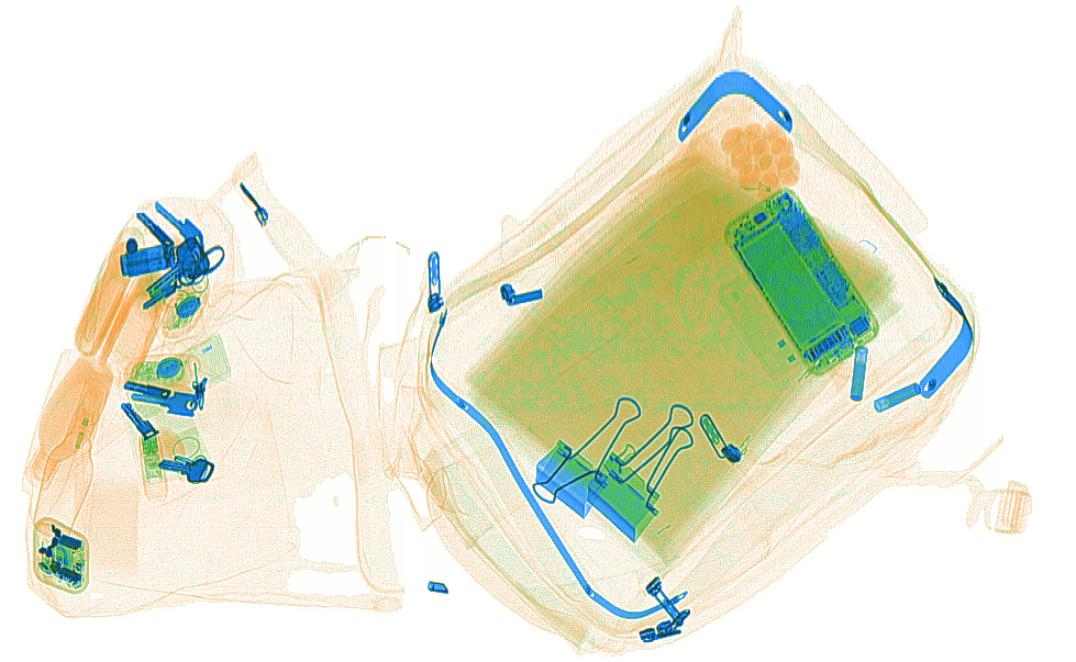USBFlashDisk: (139, 430, 165, 482)
battery: (871, 381, 922, 413), (849, 343, 869, 403)
